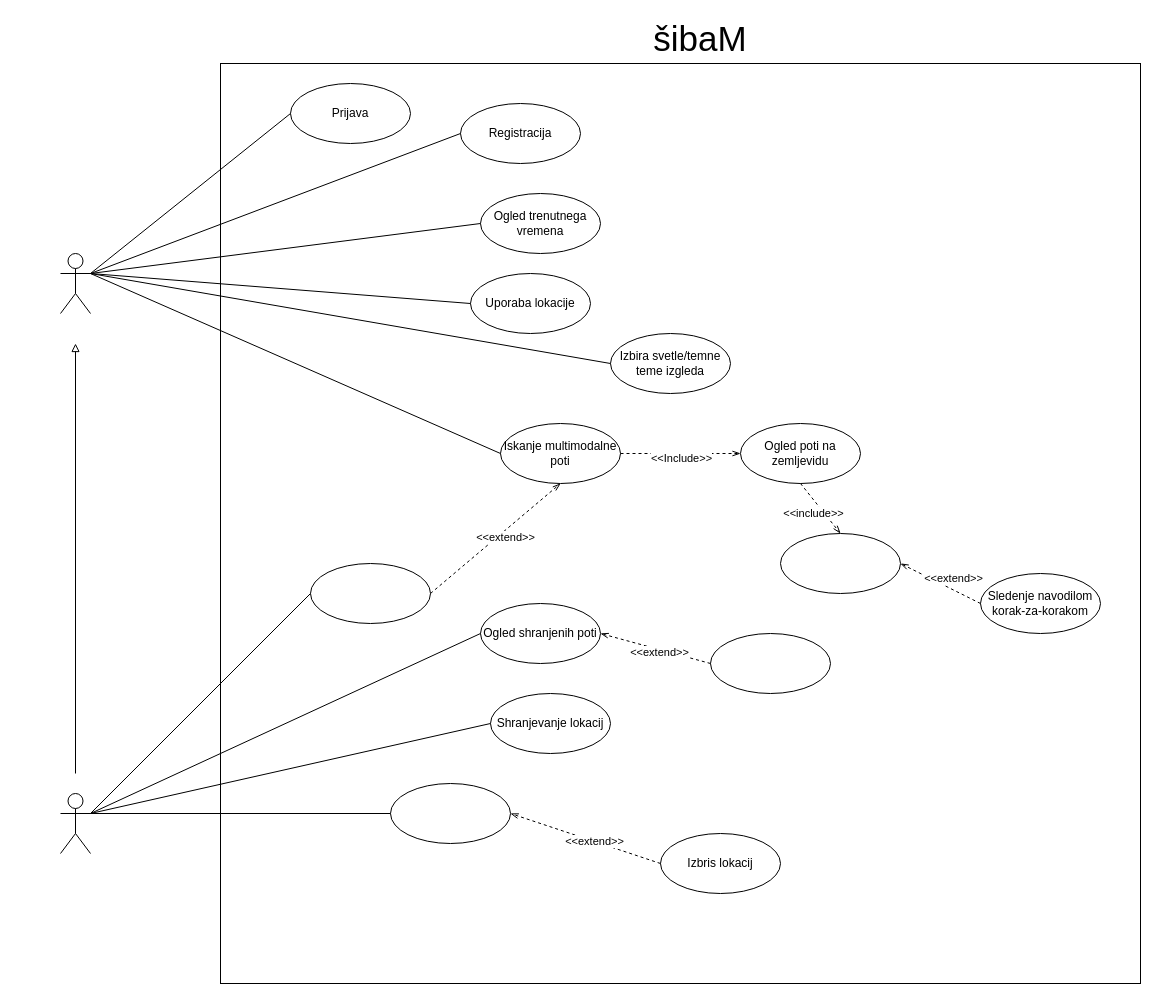
The diagram is 1158 pixels wide and 1001 high, and some of its shapes have lost their labels. Here are the shapes that lost their labels. From the top down, the centre of each, then its label:
At (75,283): "Uporabnik".
At (840,563): "Ogled navodil korak-za-korakom".
At (370,593): "Shranjevanje poti".
At (770,663): "Izbris shranjenih poti".
At (75,823): "Registrirani uporabnik".
At (450,813): "Ogled shranjenih lokacij".
